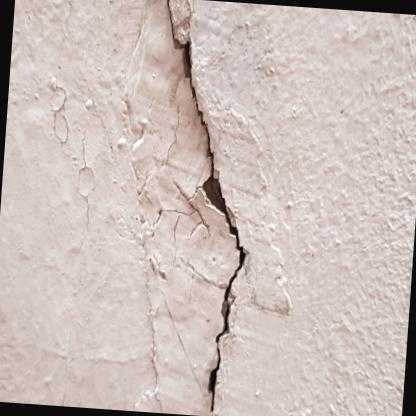crack: (166, 0, 245, 416)
